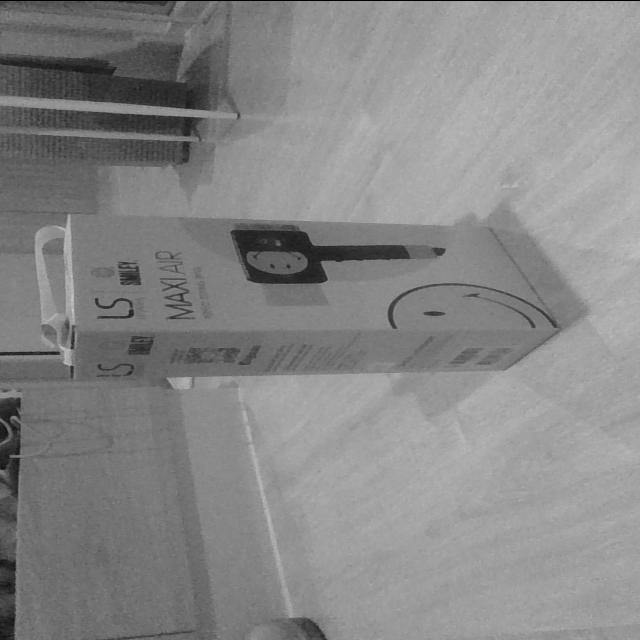Dryer: (33, 211, 562, 383)
